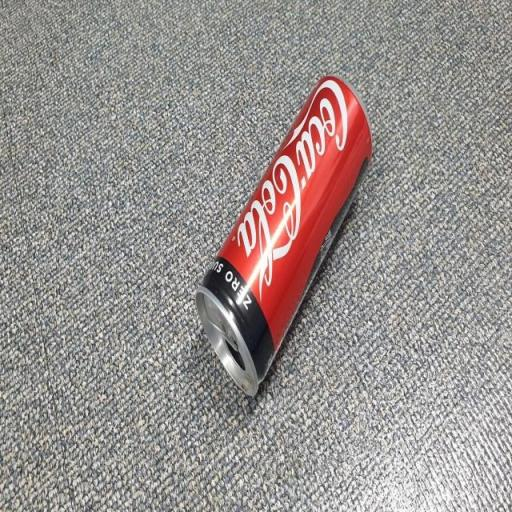metal: (180, 50, 380, 436)
